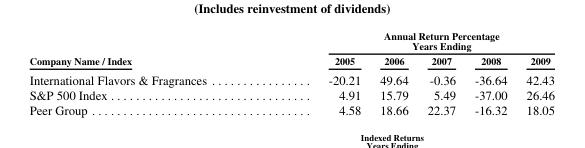table: (28, 29, 553, 117)
table column: (28, 29, 266, 117), (266, 29, 369, 117), (464, 29, 516, 117), (369, 29, 417, 117), (417, 29, 464, 117), (516, 29, 553, 117)
table column header: (28, 29, 553, 69)
table row: (28, 29, 553, 52), (28, 69, 553, 87), (28, 52, 553, 69), (28, 87, 553, 102), (28, 102, 553, 117)
table spanning cell: (28, 29, 266, 69), (266, 29, 553, 52)
